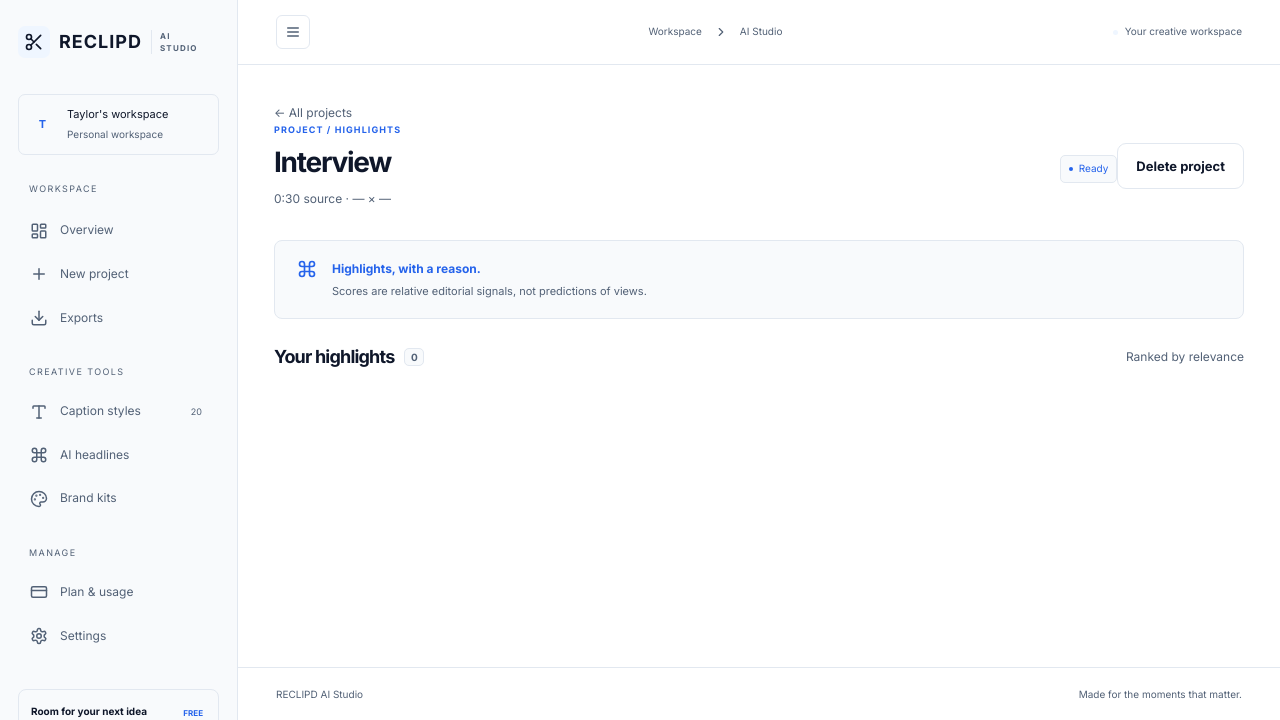
Test case: deletes a project only after confirmation
The width and height of the screenshot is (1280, 720).
Click the button "Delete project": (1181, 166) [1117,143,1244,189]
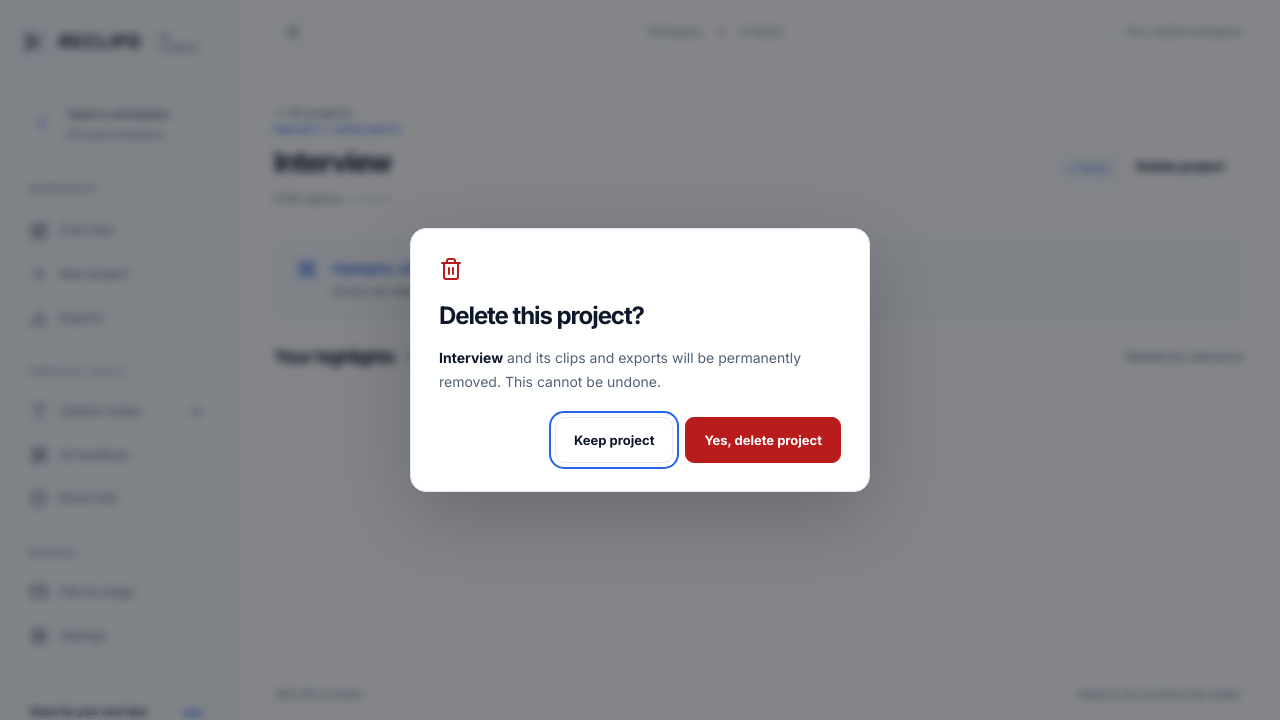
Click the button "Keep project": (614, 440) [555,417,673,463]
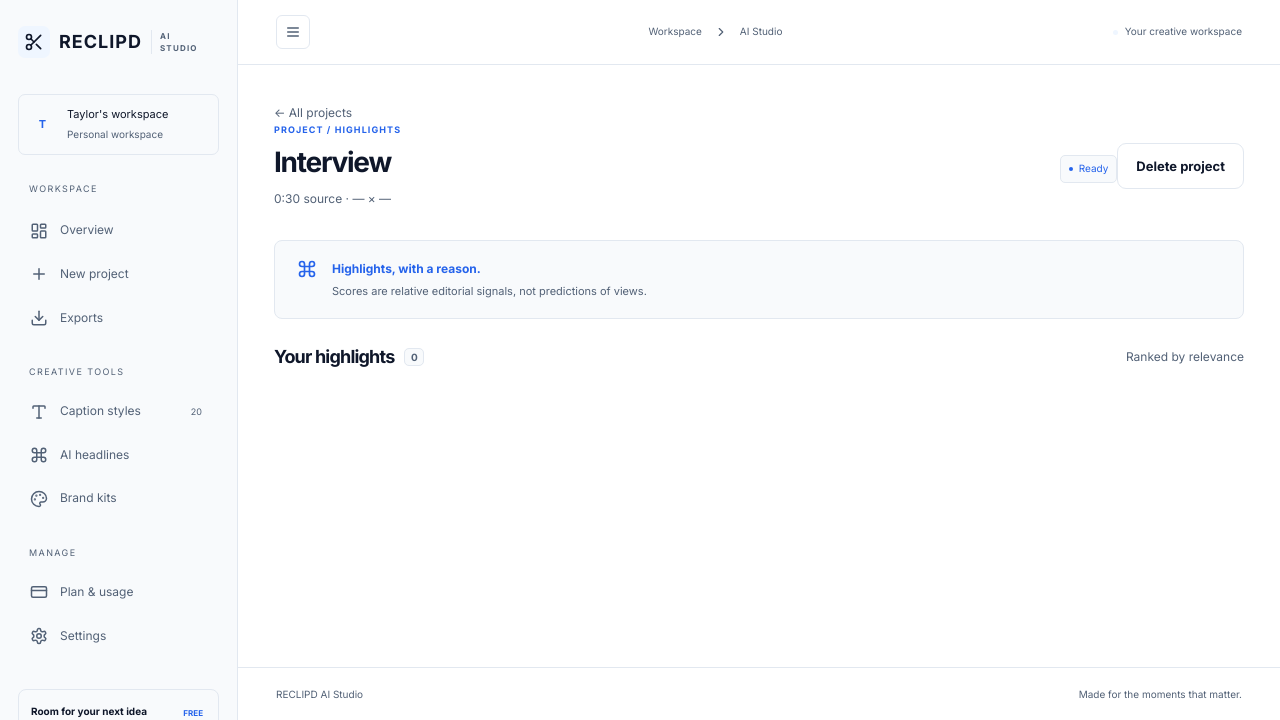
Click the button "Delete project": (1181, 166) [1117,143,1244,189]
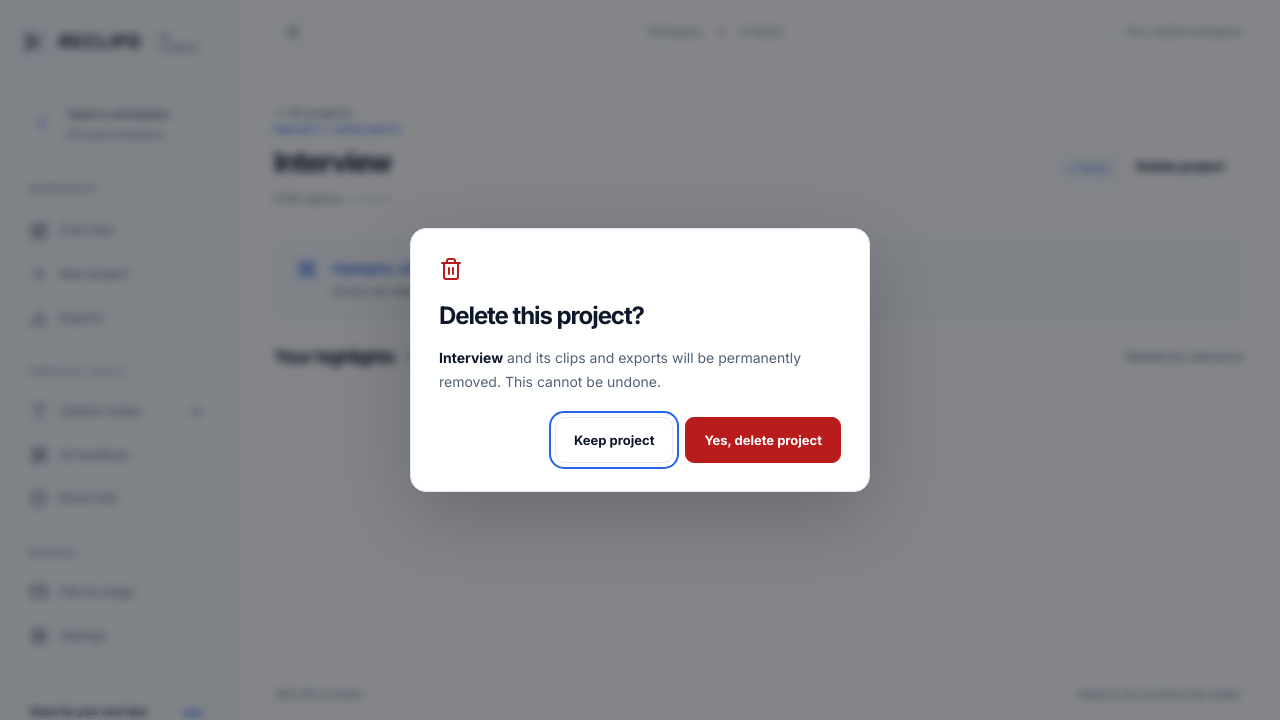
Click the button "Yes, delete project": (763, 440) [685,417,841,463]
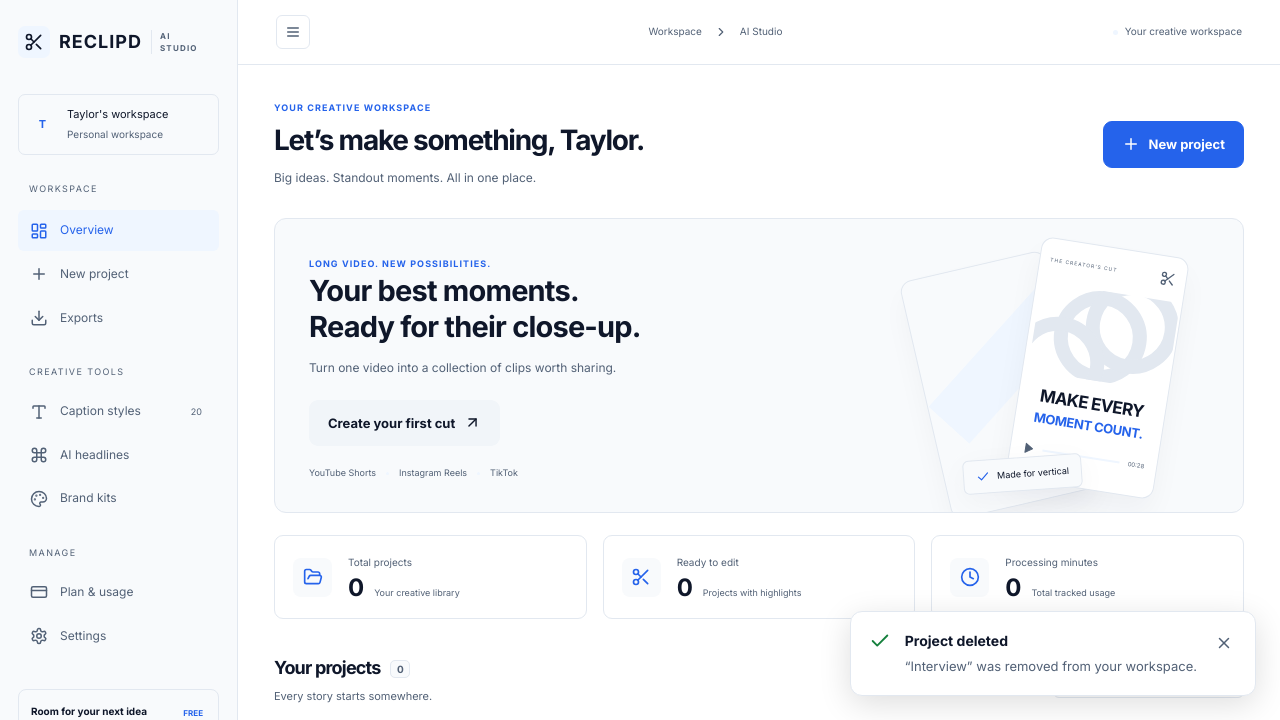
Check: the text "Project deleted" is shown, box [905,632,1008,649]
